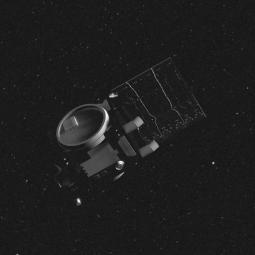proba_3_csc: (39, 53, 185, 202)
